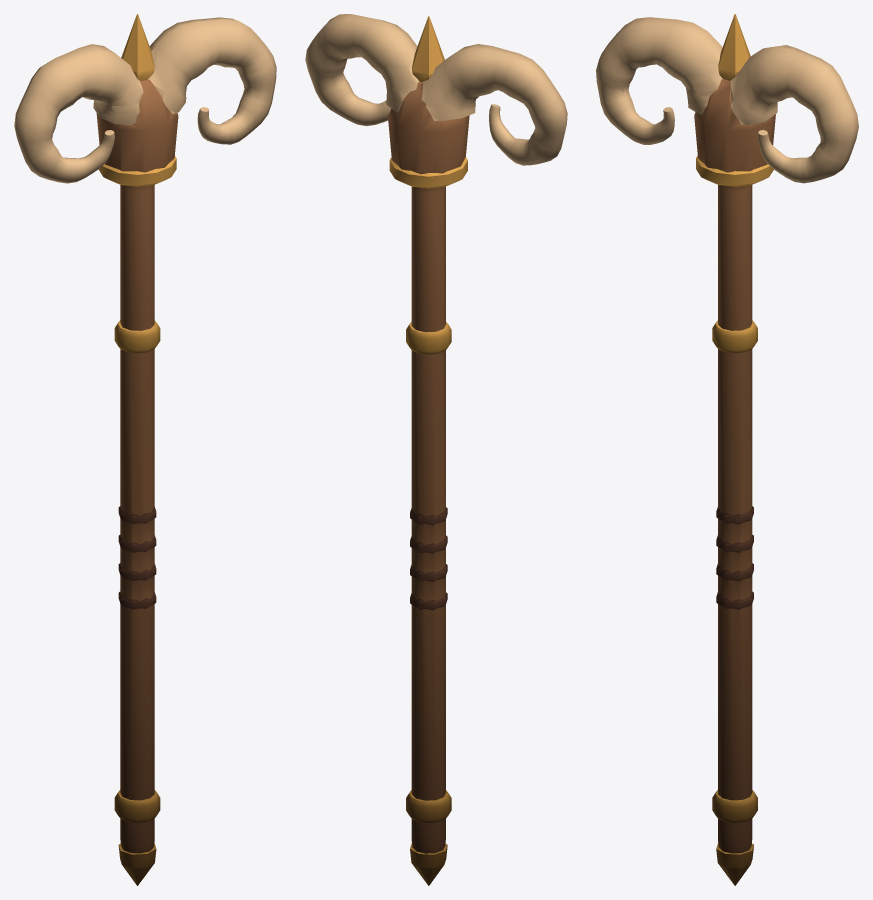
File: staff_horned.glb
The picture shows the model from 3 angles, left to right: view 1: azimuth 30°, elevation 25°; view 2: azimuth 150°, elevation 25°; view 3: azimuth 330°, elevation 25°; orthographic projection.
Parts seen in each view (by area): view 1: Item; view 2: Item; view 3: Item.
Part boxes in pixels (box(x1,y1,x2,y2)): Item: box(14, 14, 276, 885); Item: box(305, 14, 567, 885); Item: box(596, 14, 858, 885).
Size of the model in its own units: 0.7589 by 2.45 by 0.2106.
2 materials, 2 textured.
